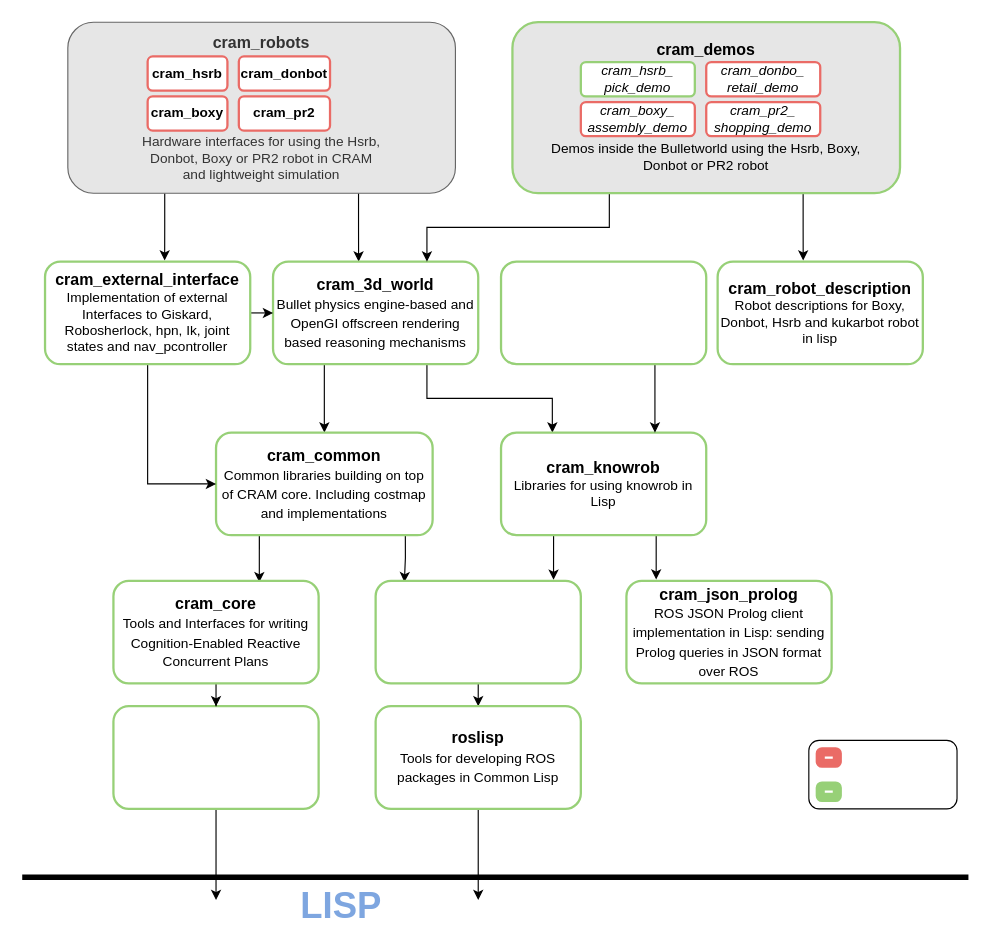
The diagram is 992 pixels wide and 946 high, and some of its shapes have lost their labels. The box of each missing label's shape, as (x1, y1, x2, y2) in pixels:
cram_3rdparty 3rd party Lisp liabraries warpped into ROS packages: (112, 705, 319, 809)
cram_learning Libraries for the generation of neems: (499, 260, 707, 365)
Deprecated Up to date: (808, 739, 957, 809)
roslisp_common Lisp implementation of ROS libraries: (374, 579, 581, 684)
